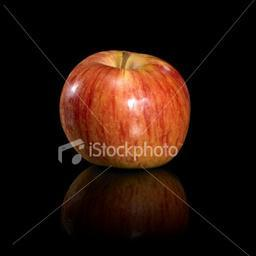apple: (58, 51, 191, 172)
